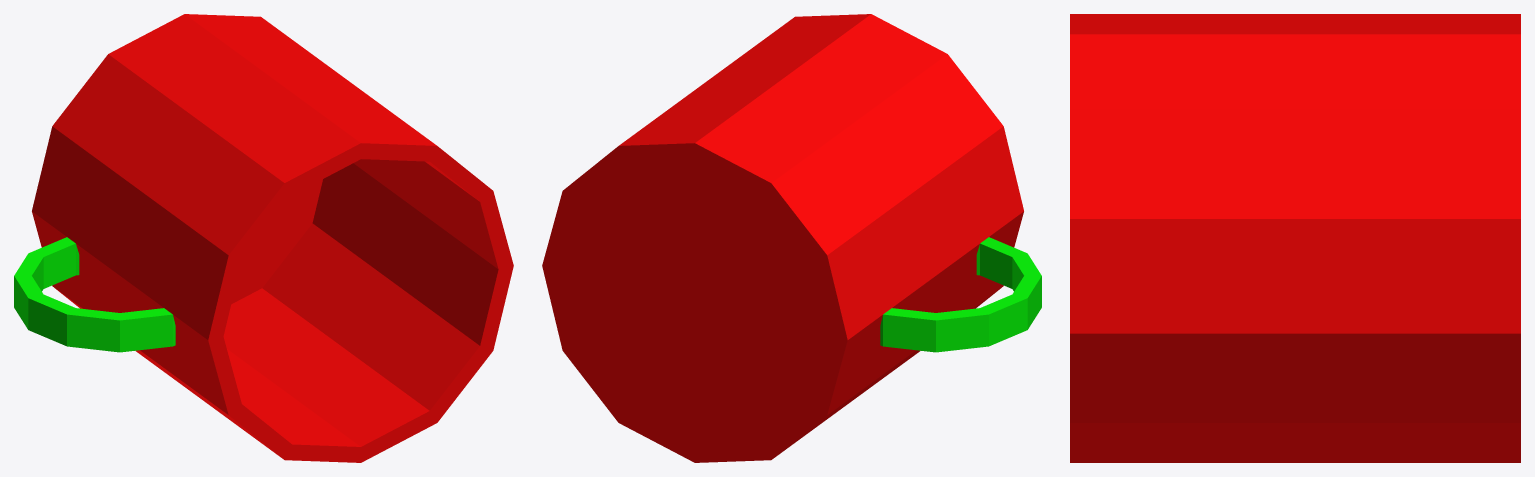
The model's file is nil_link_mesh.dae.
The picture shows the model from 3 angles, left to right: view 1: azimuth 30°, elevation 25°; view 2: azimuth 150°, elevation 25°; view 3: azimuth 270°, elevation 25°; orthographic projection. The views are drawn at different scales.
Parts seen in each view (by area): view 1: nil_link (×2); view 2: nil_link (×2); view 3: nil_link.
Part boxes in pixels (left/top/right/bottom): nil_link (×2): left=14, top=14, right=513, bottom=462; nil_link (×2): left=542, top=14, right=1041, bottom=462; nil_link: left=1070, top=14, right=1520, bottom=462.
Bounding box in the file's own units: 0.13 × 0.1 × 0.1.
